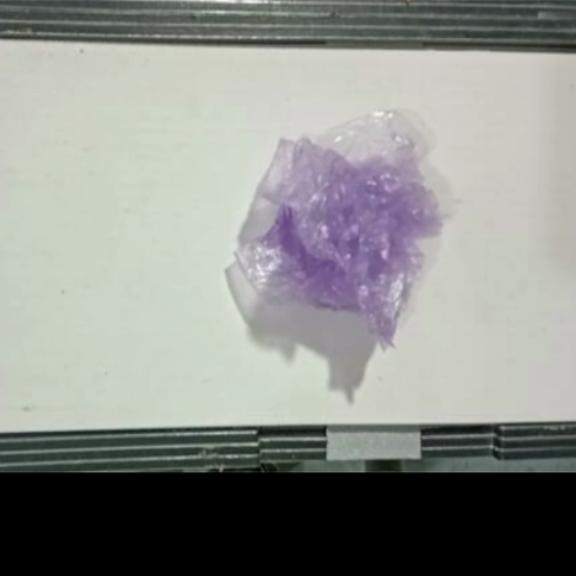Plastik: (235, 110, 444, 353)
